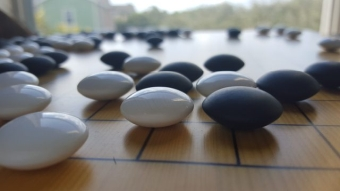black: (201, 84, 284, 131), (256, 68, 322, 105), (204, 53, 245, 74), (19, 55, 58, 76), (100, 51, 132, 68)
crossing: (304, 114, 330, 139), (227, 153, 254, 177), (125, 147, 152, 170)
white: (119, 86, 195, 130), (1, 83, 53, 121), (76, 71, 135, 102), (195, 71, 258, 99)
